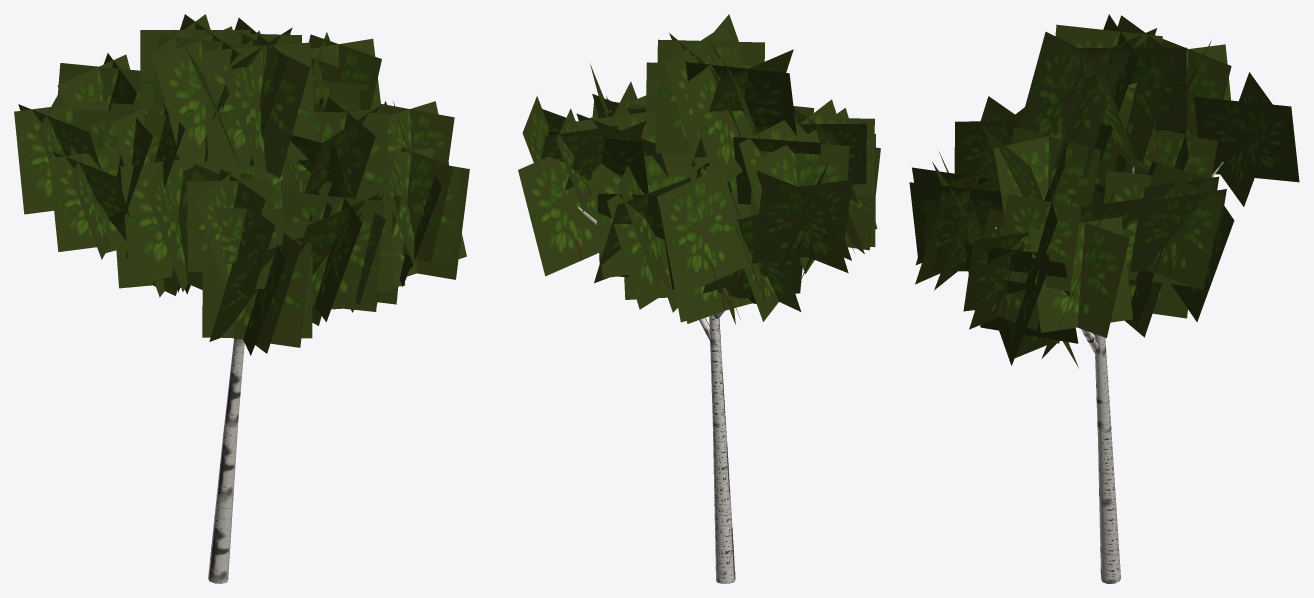
The model's file is SM_Art_Veg_Birch_1.gltf.
3 views of the same model, side by side, from view 1: azimuth 30°, elevation 25°; view 2: azimuth 150°, elevation 25°; view 3: azimuth 270°, elevation 25° (orthographic). The views are drawn at different scales.
Parts seen in each view (by area): view 1: SM_Art_Veg_Birch_1; view 2: SM_Art_Veg_Birch_1; view 3: SM_Art_Veg_Birch_1.
Boxes of the visible parts, box(x1,y1,x2,y2) form: SM_Art_Veg_Birch_1: box(14, 14, 469, 583); SM_Art_Veg_Birch_1: box(518, 14, 880, 583); SM_Art_Veg_Birch_1: box(909, 14, 1299, 583).
Size of the model in its own units: 5.51 by 7.73 by 5.11.
Materials: 2 (2 with a texture image).
